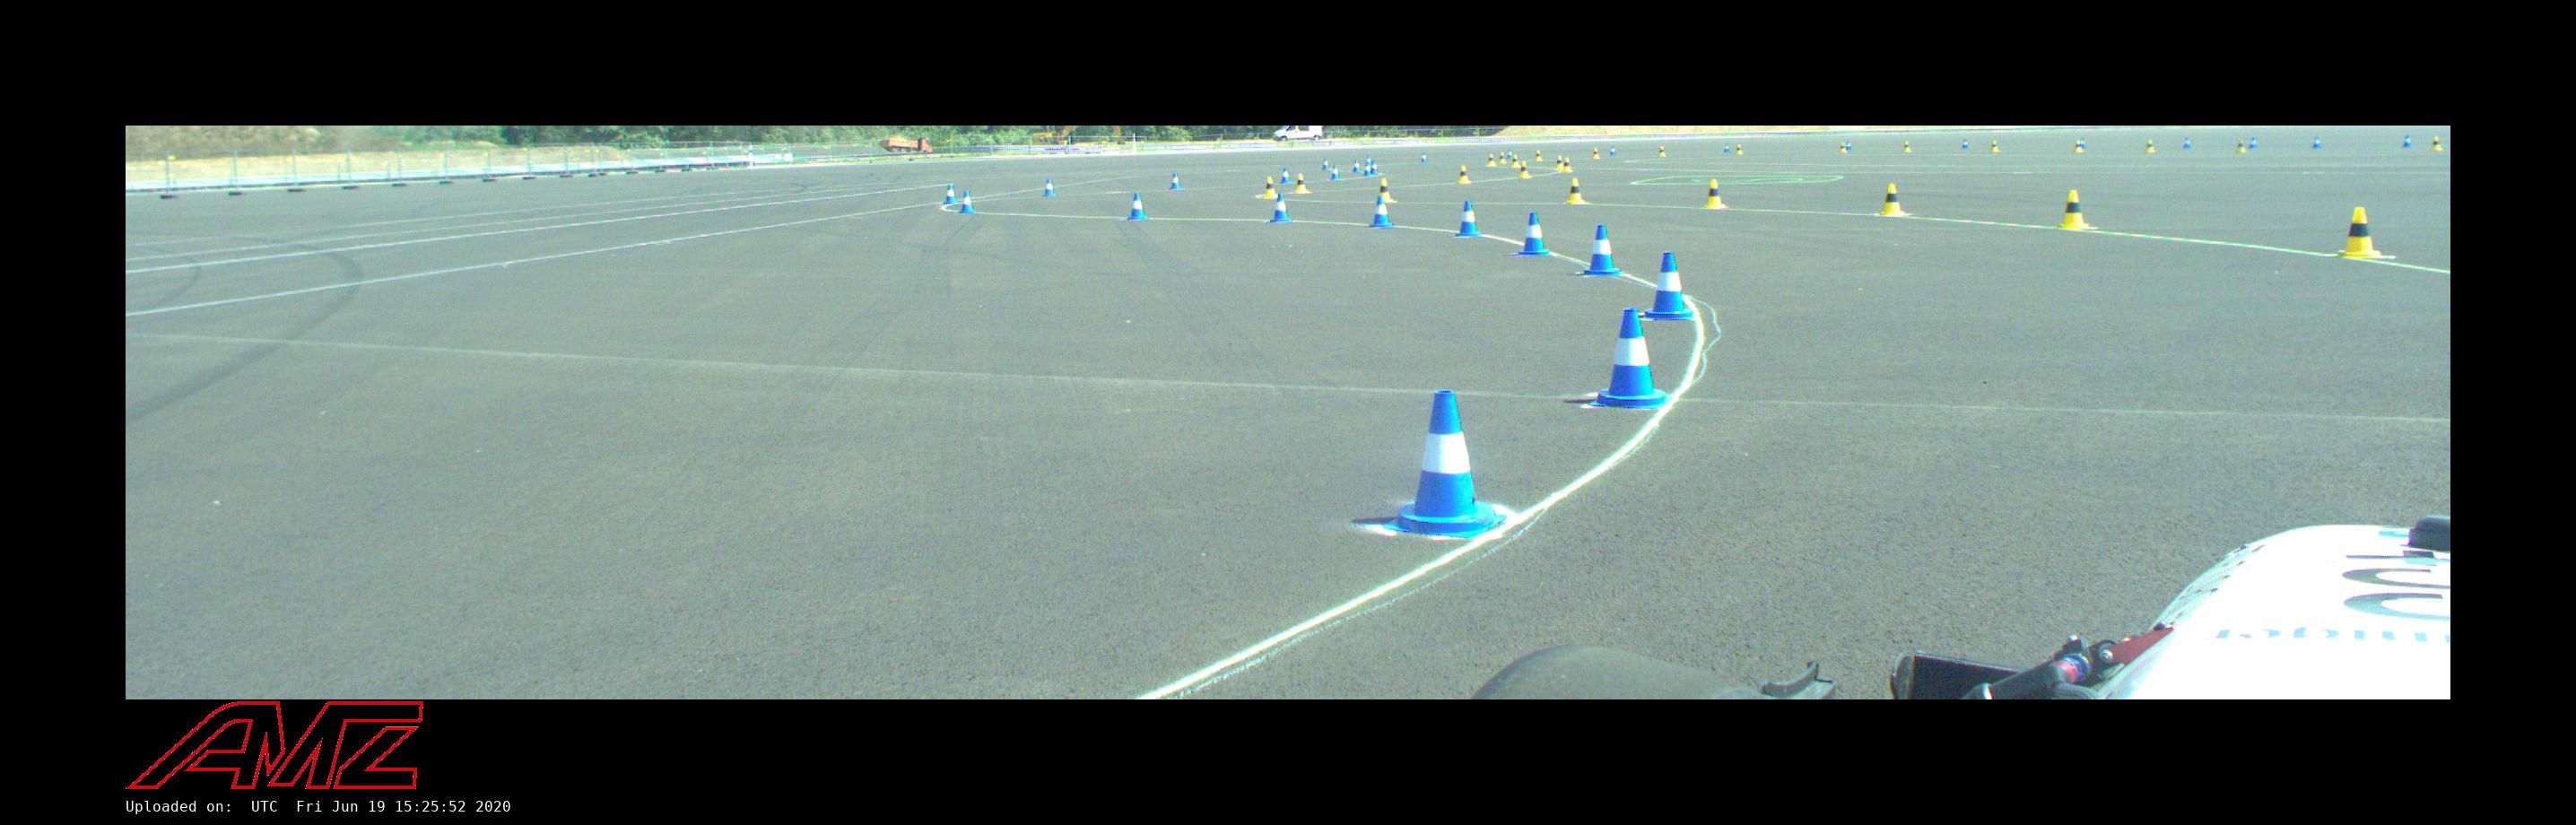blue_cone: (1382, 389, 1506, 539), (1589, 309, 1674, 411), (1644, 251, 1699, 320), (1579, 224, 1623, 278), (1515, 214, 1553, 258), (1456, 200, 1482, 237), (1372, 196, 1393, 228), (1270, 194, 1293, 222), (1127, 192, 1148, 220), (958, 191, 978, 214), (941, 184, 959, 204), (1042, 179, 1056, 197), (1168, 173, 1183, 191), (1329, 164, 1342, 181), (1280, 168, 1293, 184), (2310, 135, 2323, 150), (2402, 135, 2413, 146), (1321, 158, 1331, 171), (1352, 159, 1362, 173), (2182, 136, 2192, 150), (1362, 163, 1372, 176), (1372, 161, 1380, 174), (1419, 153, 1429, 163), (2249, 136, 2257, 148), (1960, 140, 1968, 150), (1722, 143, 1730, 153), (1608, 146, 1617, 154), (1506, 150, 1511, 158)
yellow_cone: (2336, 207, 2382, 258), (2057, 191, 2093, 230), (1878, 184, 1904, 215), (1704, 179, 1728, 209), (1566, 179, 1589, 204), (1380, 177, 1393, 202), (1295, 174, 1311, 192), (1263, 176, 1277, 196), (1457, 166, 1470, 184), (2428, 136, 2443, 151), (1518, 161, 1531, 177), (1562, 156, 1574, 173), (2144, 140, 2155, 153), (2072, 140, 2083, 151), (2236, 140, 2246, 153), (1485, 154, 1495, 166), (1656, 146, 1667, 156), (1510, 154, 1520, 166), (1838, 141, 1848, 153), (1487, 154, 1497, 166), (1554, 156, 1562, 169), (1534, 151, 1544, 161), (1735, 145, 1743, 154), (1991, 141, 1999, 151), (1498, 153, 1506, 163), (1904, 141, 1911, 153), (1592, 150, 1599, 158)
